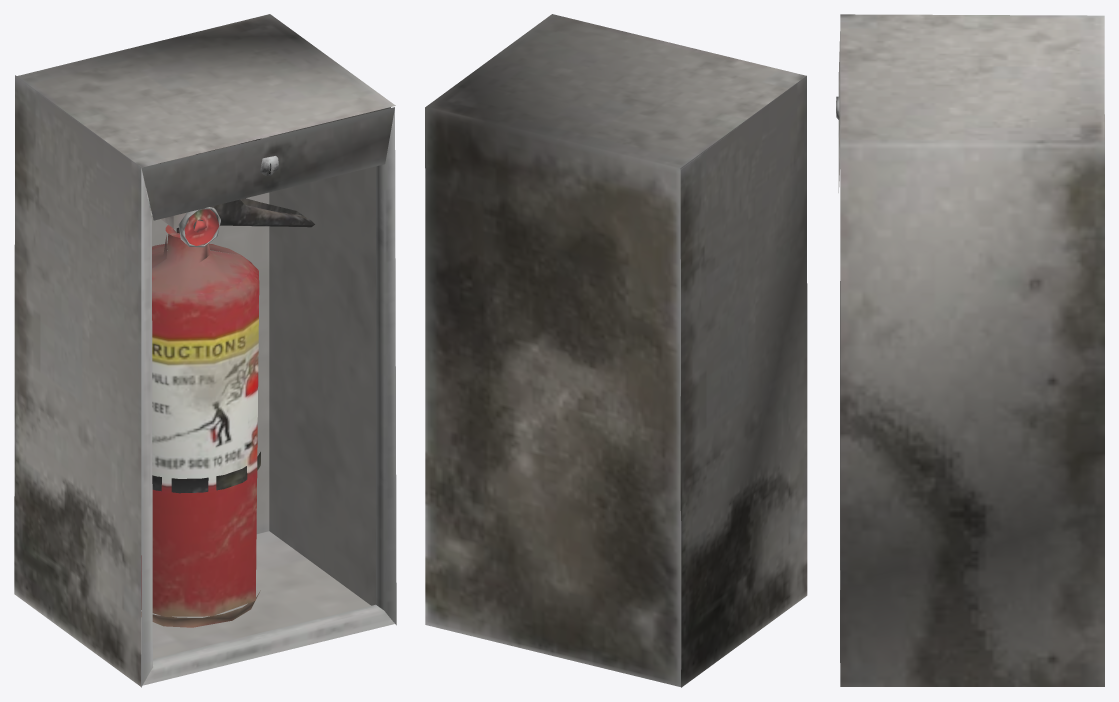
The model's file is estintore.glb.
The picture shows the model from 3 angles, left to right: view 1: azimuth 30°, elevation 25°; view 2: azimuth 150°, elevation 25°; view 3: azimuth 270°, elevation 25°; orthographic projection. The views are drawn at different scales.
Parts seen in each view (by area): view 1: Object_3, Object_4; view 2: Object_3; view 3: Object_3.
Boxes of the visible parts, x1=… form: Object_3: x1=14, y1=14, x2=396, y2=687; Object_4: x1=152, y1=167, x2=375, y2=658; Object_3: x1=425, y1=14, x2=807, y2=687; Object_3: x1=836, y1=14, x2=1104, y2=686.
Size of the model in its own units: 26.77 by 52.02 by 23.3.
2 materials, 2 textured.
